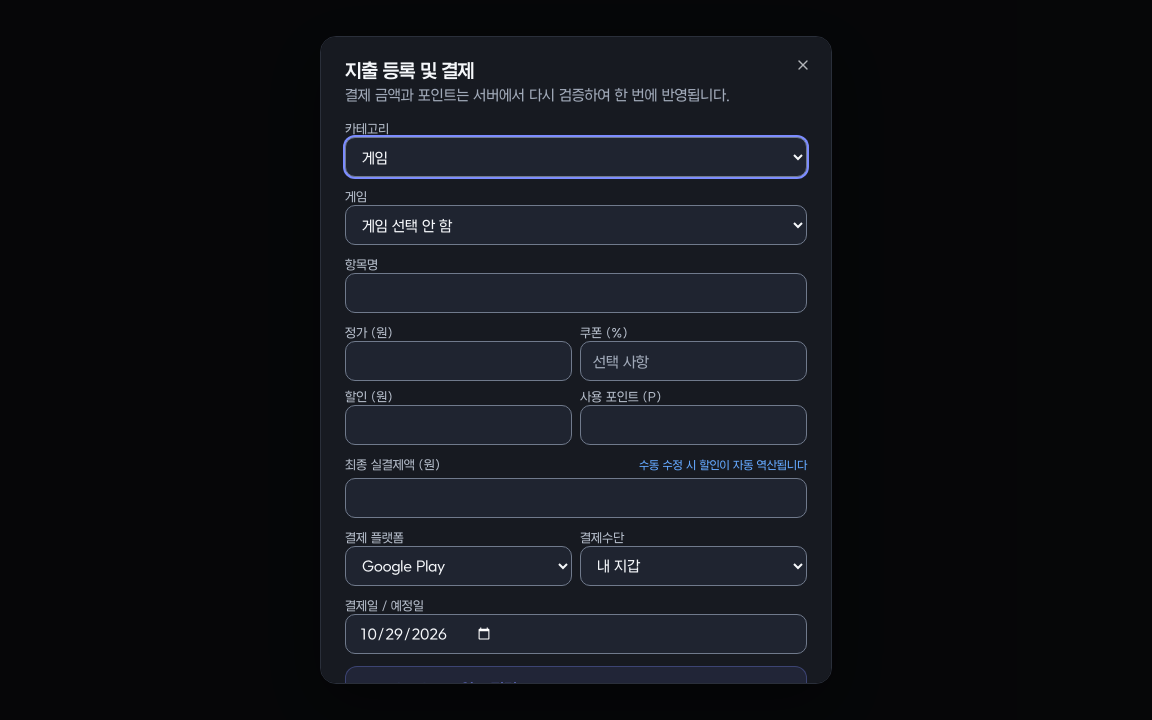
it: ExpenseModal › hides game selection when category is changed from 게임 to another category
Expected: the dropdown labelled "게임" is shown, [345,205,807,245]
Select "식비" in the dropdown labelled "카테고리" at [576, 157], box [345,137,807,177]
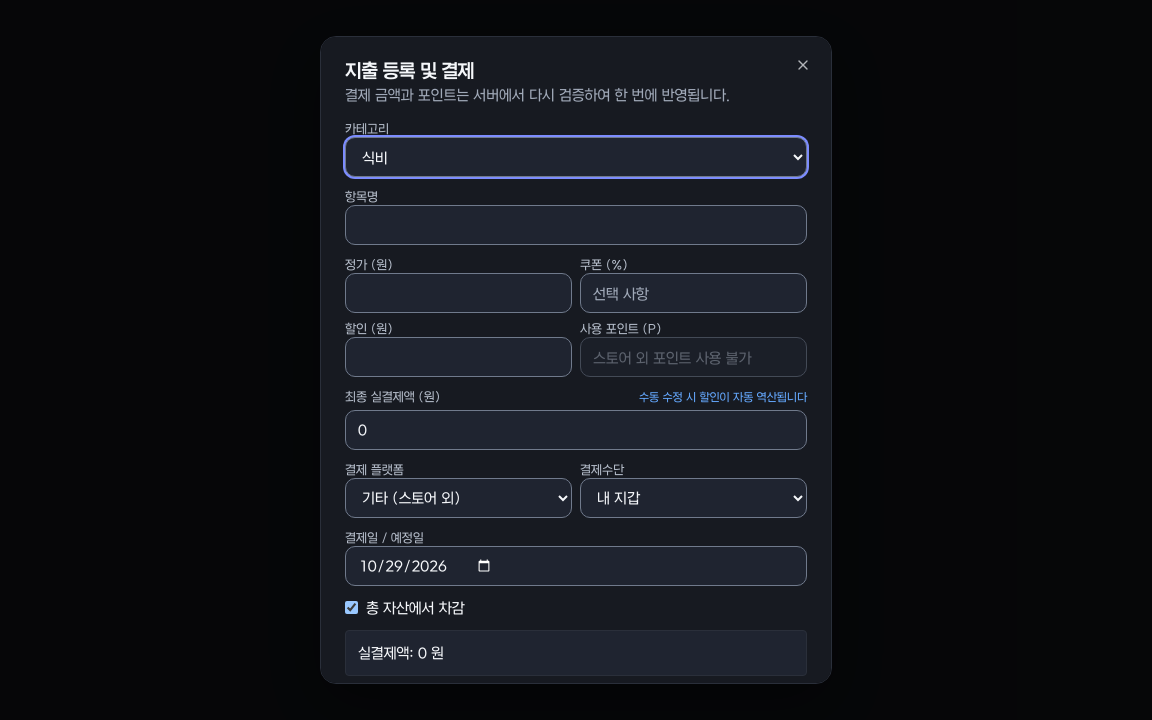
Expected: the label labelled "게임" is gone
